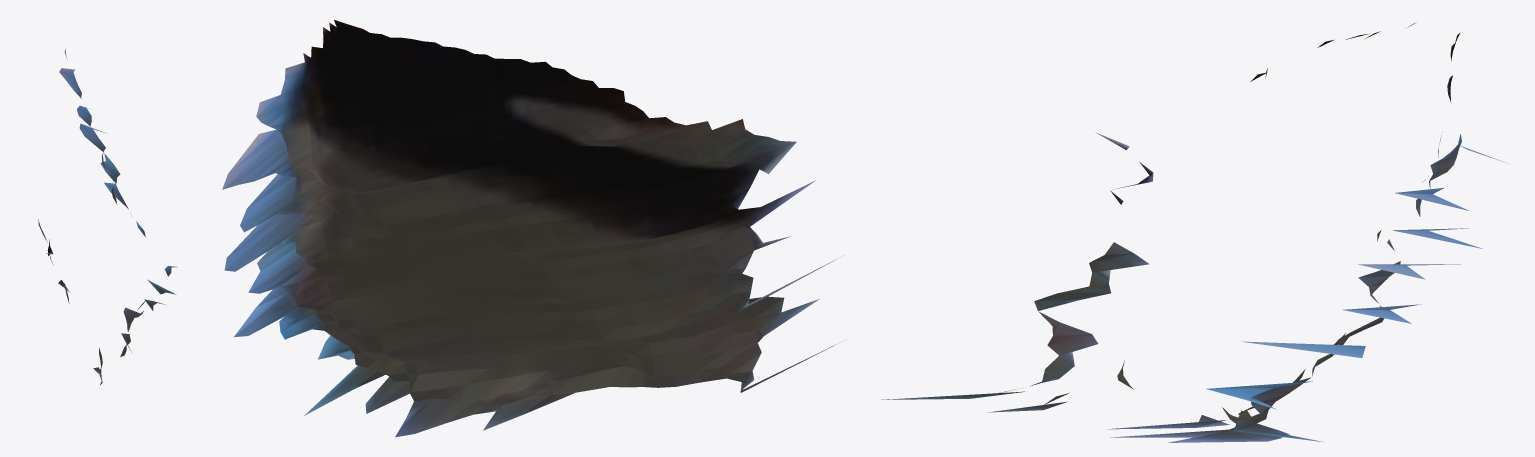
The model's file is observed-surface.glb.
The picture shows the model from 3 angles, left to right: view 1: azimuth 30°, elevation 25°; view 2: azimuth 150°, elevation 25°; view 3: azimuth 270°, elevation 25°; orthographic projection. The views are drawn at different scales.
Parts seen in each view (by area): view 1: geometry_0; view 2: geometry_0; view 3: geometry_0.
Boxes of the visible parts, x1,y1,x2,y2 form: geometry_0: (38,48,177,384); geometry_0: (222,20,843,437); geometry_0: (881,23,1508,442).
Size of the model in its own units: 0.2608 by 0.3903 by 0.5472.
1 material, 1 textured.
